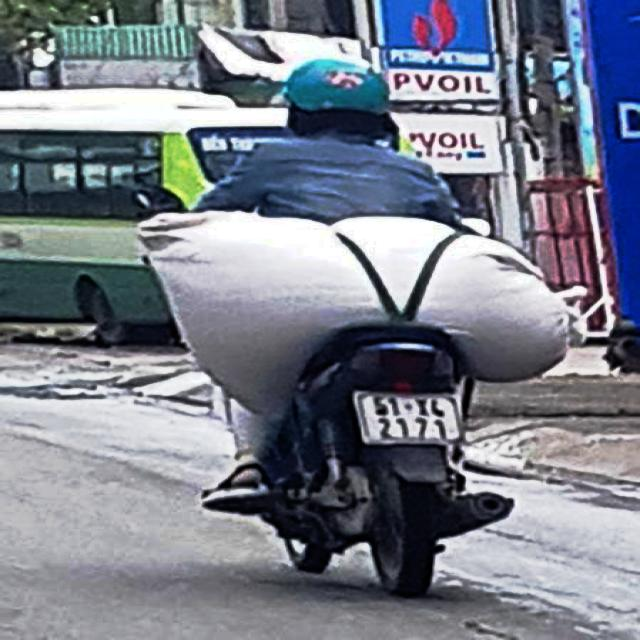license_plate: (357, 393, 467, 442)
